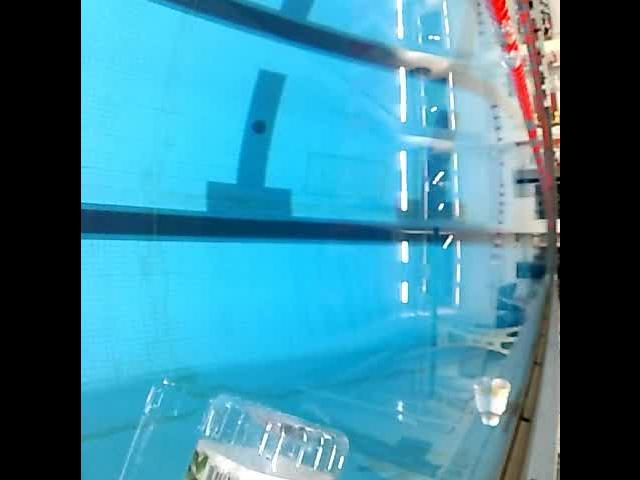Bottle: (148, 386, 352, 480), (480, 370, 514, 432)
